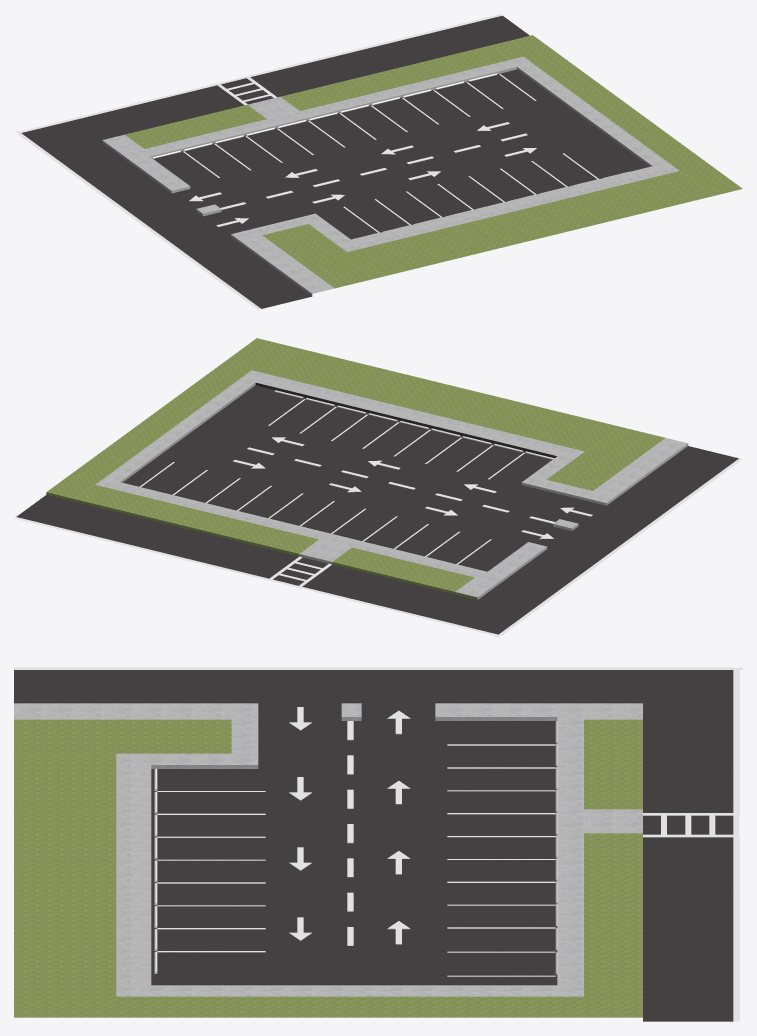
The model's file is parking.glb.
The picture shows the model from 3 angles, top to bottom: view 1: azimuth 30°, elevation 25°; view 2: azimuth 150°, elevation 25°; view 3: azimuth 270°, elevation 25°; orthographic projection. The views are drawn at different scales.
Parts seen in each view (by area): view 1: Material3.001, Material3.002, Material3.003, Material3; view 2: Material3.001, Material3.002, Material3.003, Material3; view 3: Material3.001, Material3.002, Material3.003, Material3.
Boxes of the visible parts, x1,y1,x2,y2 form: Material3.001: (21, 15, 649, 308); Material3.002: (125, 35, 742, 288); Material3.003: (102, 56, 679, 295); Material3: (14, 14, 501, 309); Material3.001: (16, 383, 738, 634); Material3.002: (46, 338, 665, 599); Material3.003: (95, 370, 688, 599); Material3: (14, 458, 742, 637); Material3.001: (14, 670, 733, 1021); Material3.002: (14, 719, 642, 1017); Material3.003: (14, 703, 642, 996); Material3: (14, 667, 742, 1021).
Size of the model in its own units: 1678 by 8.7 by 1455.
Materials: 5 (3 with a texture image).
